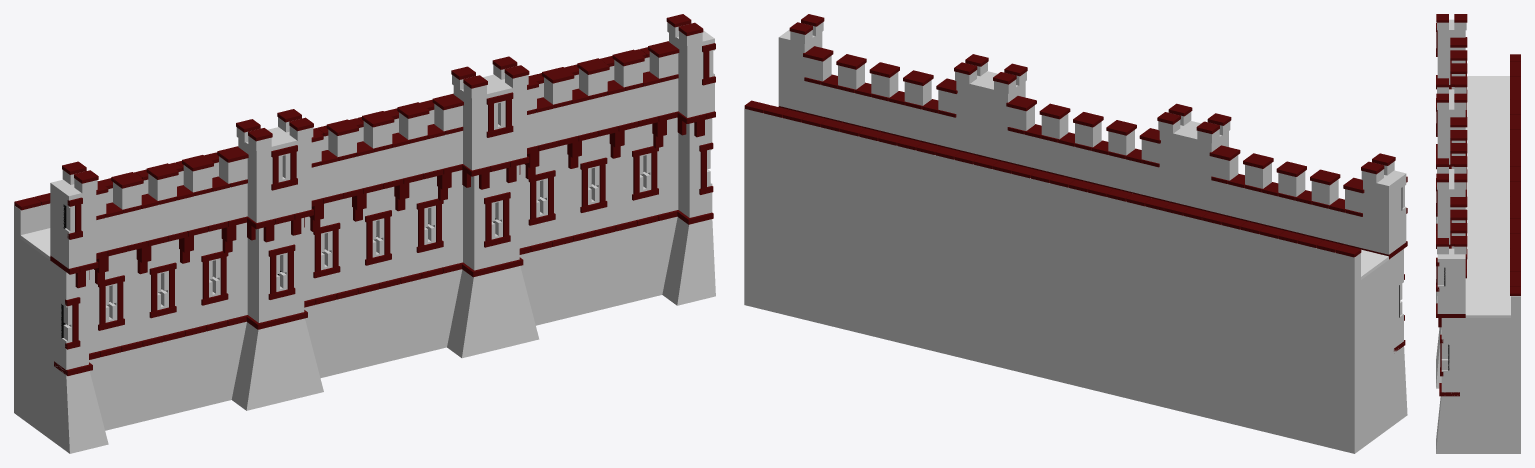
Rendered from SilverbrookWallSection.fbx.
3 renders of one model, left to right at view 1: azimuth 30°, elevation 25°; view 2: azimuth 150°, elevation 25°; view 3: azimuth 270°, elevation 25°, orthographic. The views are drawn at different scales.
Parts seen in each view (by area): view 1: SM_SBWallSection_Masonry, SM_SBWallSection_Dressed; view 2: SM_SBWallSection_Masonry, SM_SBWallSection_Dressed; view 3: SM_SBWallSection_Masonry, SM_SBWallSection_Walk, SM_SBWallSection_Dressed.
Boxes of the visible parts, x1,y1,x2,y2 form: SM_SBWallSection_Masonry: (14,22,715,453); SM_SBWallSection_Dressed: (14,14,715,375); SM_SBWallSection_Masonry: (744,22,1407,453); SM_SBWallSection_Dressed: (744,14,1407,351); SM_SBWallSection_Masonry: (1436,19,1520,453); SM_SBWallSection_Walk: (1465,76,1510,317); SM_SBWallSection_Dressed: (1436,14,1520,396).
Bounding box in the file's own units: 2000 × 800 × 300.
